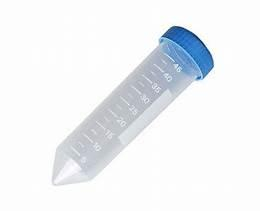Test tube: (23, 17, 248, 177)
